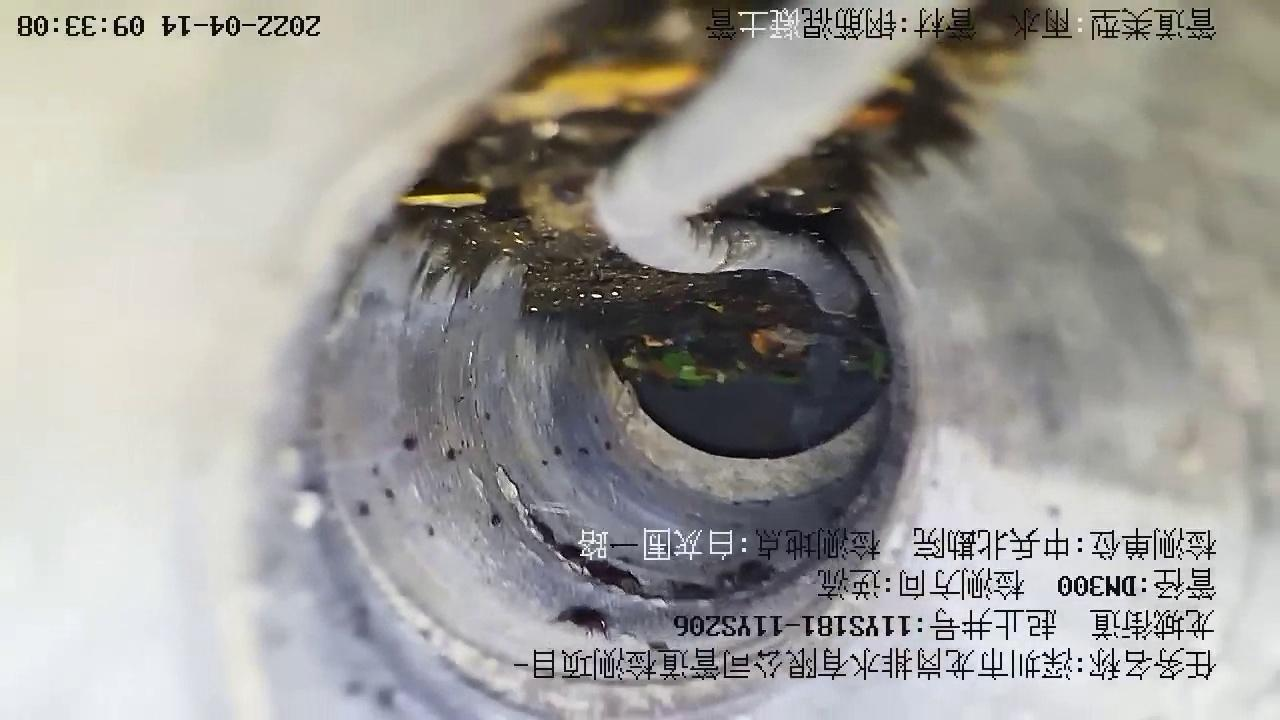CJ: (402, 1, 889, 405), (704, 5, 1020, 231)
CKTJ: (393, 597, 838, 720), (595, 372, 876, 503)
YWCR: (590, 1, 975, 315)
